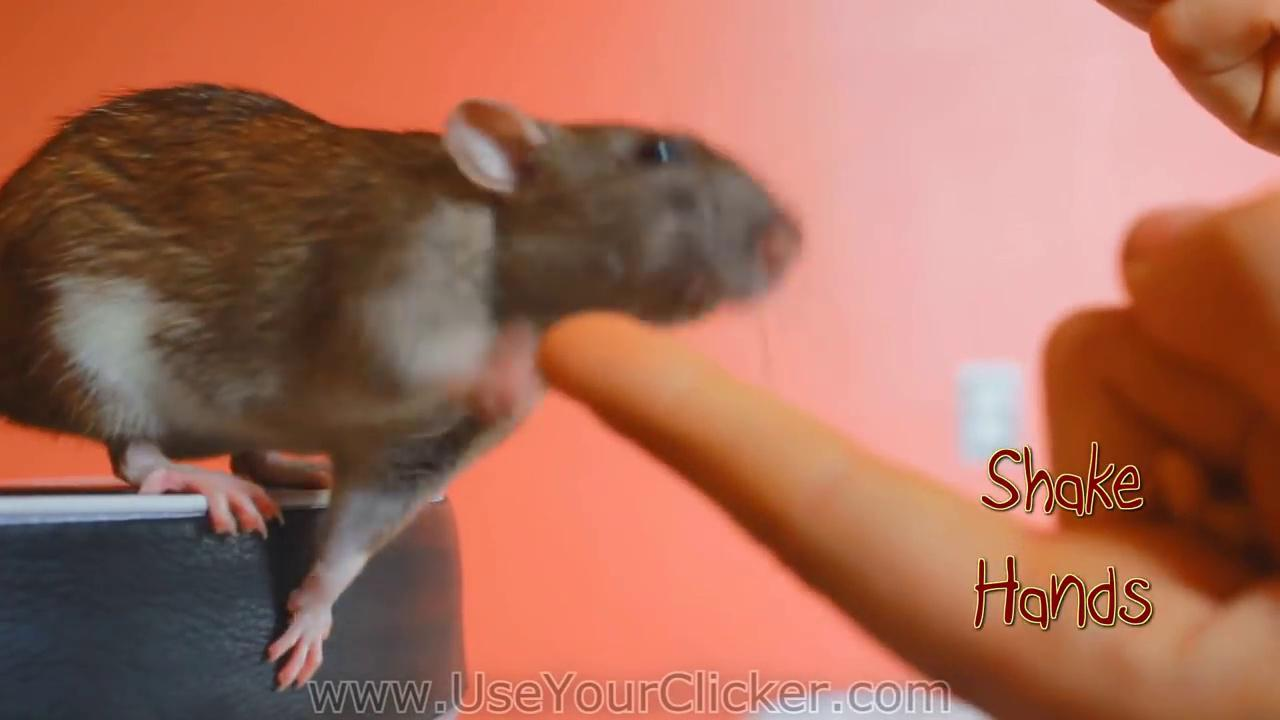rat: (1, 81, 804, 688)
